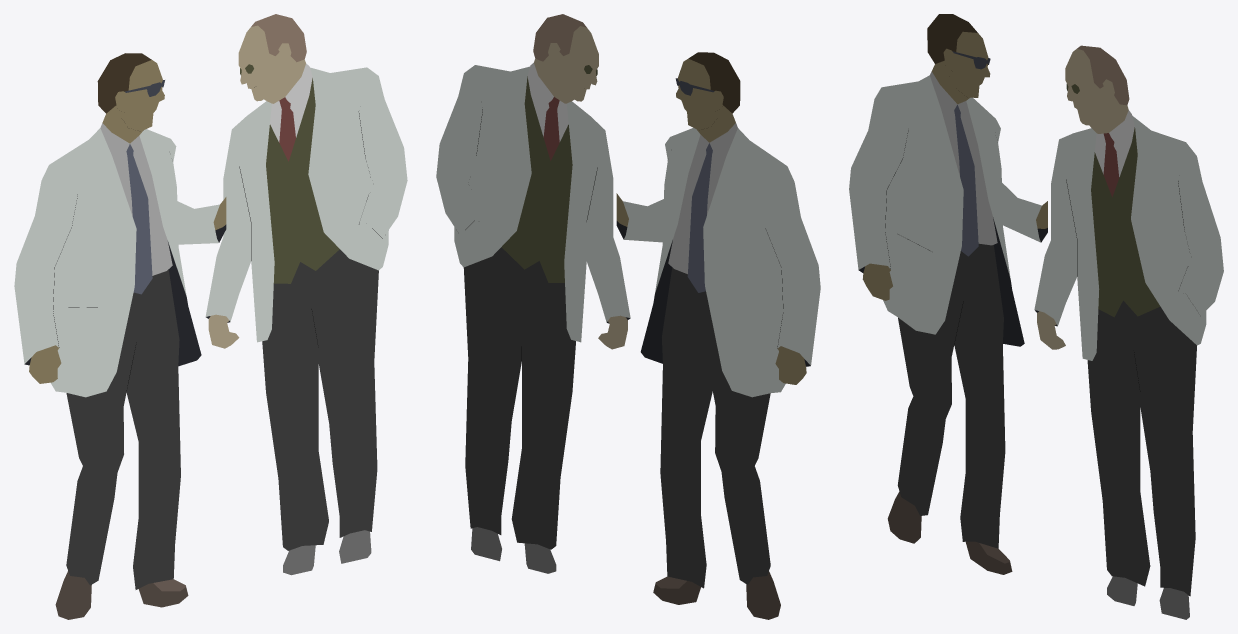
File: 2D_Group_BusinessMen-scrubs.fbx
The picture shows the model from 3 angles, left to right: view 1: azimuth 30°, elevation 25°; view 2: azimuth 150°, elevation 25°; view 3: azimuth 330°, elevation 25°; orthographic projection. The views are drawn at different scales.
Visible parts, largest first — view 1: Mesh08, Mesh01; view 2: Mesh08, Mesh01; view 3: Mesh08, Mesh01.
Part boxes in pixels (box(x1,y1,x2,y2)): Mesh08: box(205, 14, 407, 575); Mesh01: box(14, 53, 226, 619); Mesh08: box(436, 14, 630, 573); Mesh01: box(616, 52, 820, 619); Mesh08: box(1034, 45, 1223, 619); Mesh01: box(849, 14, 1047, 574).
Bounding box in the file's own units: 72.11 × 100 × 1.29.
